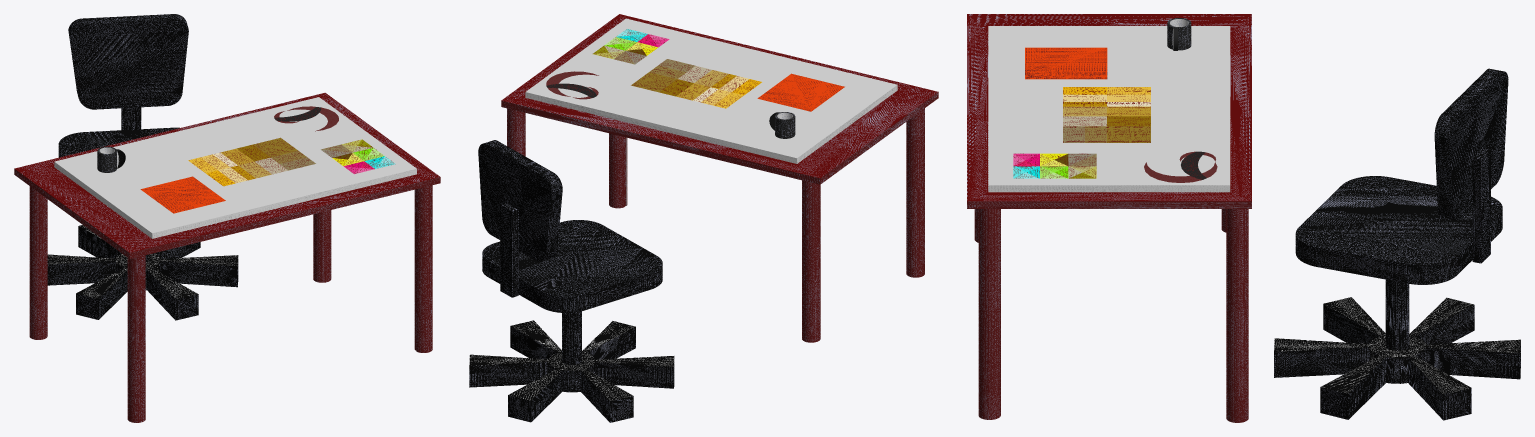
The picture shows the model from 3 angles, left to right: view 1: azimuth 30°, elevation 25°; view 2: azimuth 150°, elevation 25°; view 3: azimuth 270°, elevation 25°; orthographic projection. The views are drawn at different scales.
Visible parts, largest first — view 1: SketchUp (×11), chair (×4); view 2: SketchUp (×11), chair (×5); view 3: SketchUp (×9), chair (×5).
Boxes of the visible parts, <box> form: SketchUp (×11): <box>14,92,440,422</box>; chair (×4): <box>47,14,238,320</box>; SketchUp (×11): <box>501,14,938,342</box>; chair (×5): <box>469,140,674,422</box>; SketchUp (×9): <box>967,14,1251,422</box>; chair (×5): <box>1274,68,1520,420</box>.
Size of the model in its own units: 46.4 by 57.95 by 33.52.
